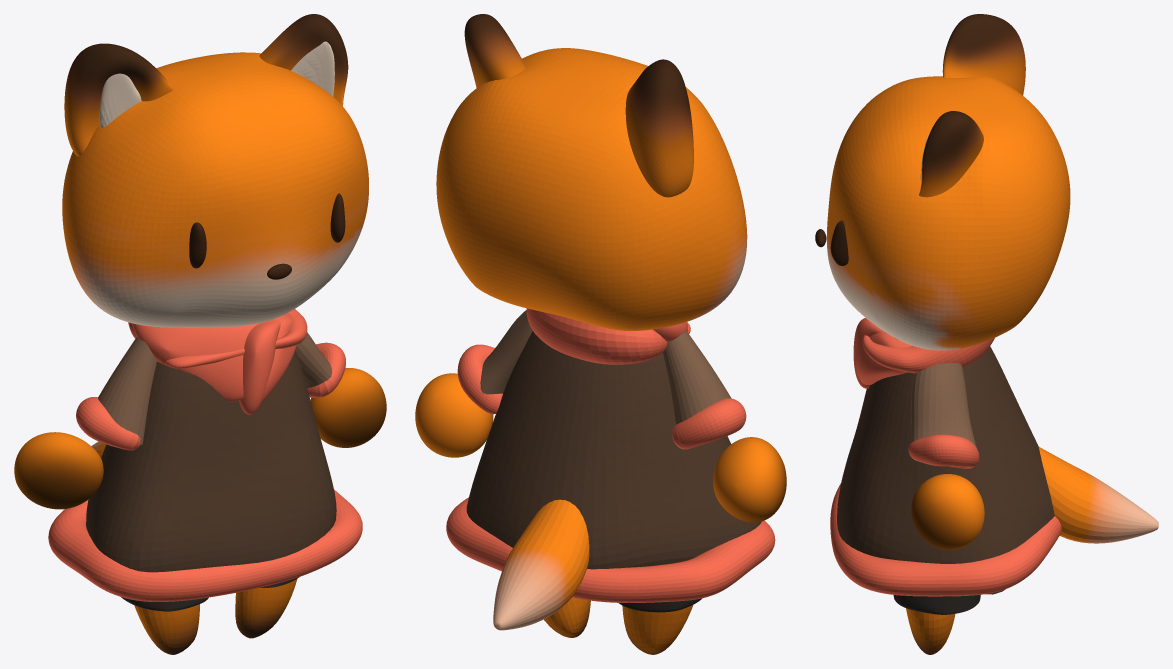
The model's file is fox.glb.
The picture shows the model from 3 angles, left to right: view 1: azimuth 30°, elevation 25°; view 2: azimuth 150°, elevation 25°; view 3: azimuth 270°, elevation 25°; orthographic projection. The views are drawn at different scales.
Visible parts, largest first — view 1: Quad Sphere (×4), Lathe, Tube (×4), Ear (×2), Quad Sphere 1, Ear 2, Tube 5, Tube 4, Ear 1, Tube 1, Tube 2, UV Sphere 2 (+2 smaller); view 2: Quad Sphere (×2), Lathe, Tube (×5), Ear, Quad Sphere 1, Ear 2, Tube 4, Tube 1, Tube 2, Tube 5, Cylinder; view 3: Quad Sphere (×4), Lathe, Tube (×3), Ear, Tube 1, Ear 2, Tube 2, Tube 5, Cylinder 1, UV Sphere 1.
Part boxes in pixels (box(x1,y1,x2,y2)): Quad Sphere (×4): box(62, 52, 386, 447); Lathe: box(86, 350, 336, 572); Tube (×4): box(48, 309, 362, 601); Ear (×2): box(64, 43, 174, 156); Quad Sphere 1: box(14, 432, 103, 509); Ear 2: box(259, 14, 348, 105); Tube 5: box(235, 579, 297, 638); Tube 4: box(134, 604, 199, 654); Ear 1: box(291, 41, 334, 96); Tube 1: box(295, 332, 331, 387); Tube 2: box(307, 342, 345, 397); UV Sphere 2: box(189, 222, 206, 268); Quad Sphere (×2): box(415, 48, 747, 457); Lathe: box(466, 331, 761, 569); Tube (×5): box(446, 308, 775, 630); Ear: box(625, 59, 693, 197); Quad Sphere 1: box(713, 437, 786, 522); Ear 2: box(464, 14, 526, 87); Tube 4: box(622, 605, 693, 654); Tube 1: box(480, 310, 532, 394); Tube 2: box(457, 344, 502, 414); Tube 5: box(544, 597, 590, 637); Cylinder: box(619, 598, 701, 612); Quad Sphere (×4): box(826, 76, 1070, 550); Lathe: box(837, 346, 1054, 594); Tube (×3): box(830, 335, 1158, 596); Ear: box(942, 14, 1025, 95); Tube 1: box(911, 363, 976, 447); Ear 2: box(919, 111, 983, 197); Tube 2: box(908, 434, 979, 468); Tube 5: box(906, 608, 955, 654); Cylinder 1: box(893, 594, 980, 614); UV Sphere 1: box(830, 220, 848, 265).
Bounding box in the file's own units: 1.12 × 1.81 × 0.9665.
